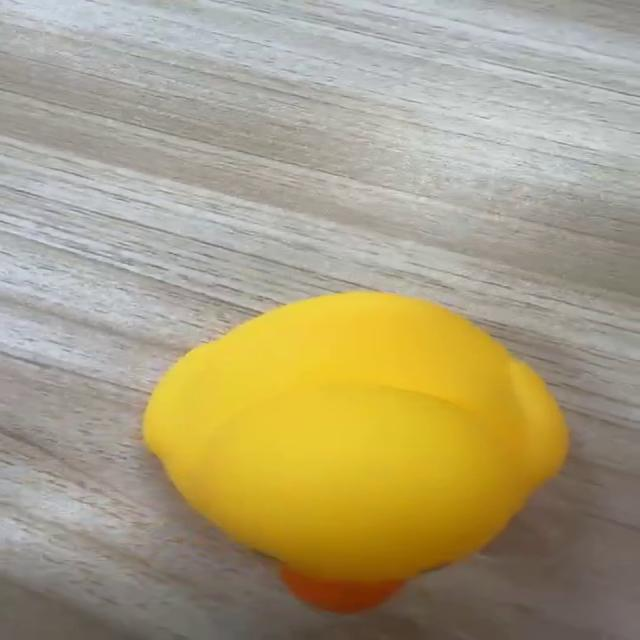yellow_duck: (139, 289, 570, 614)
